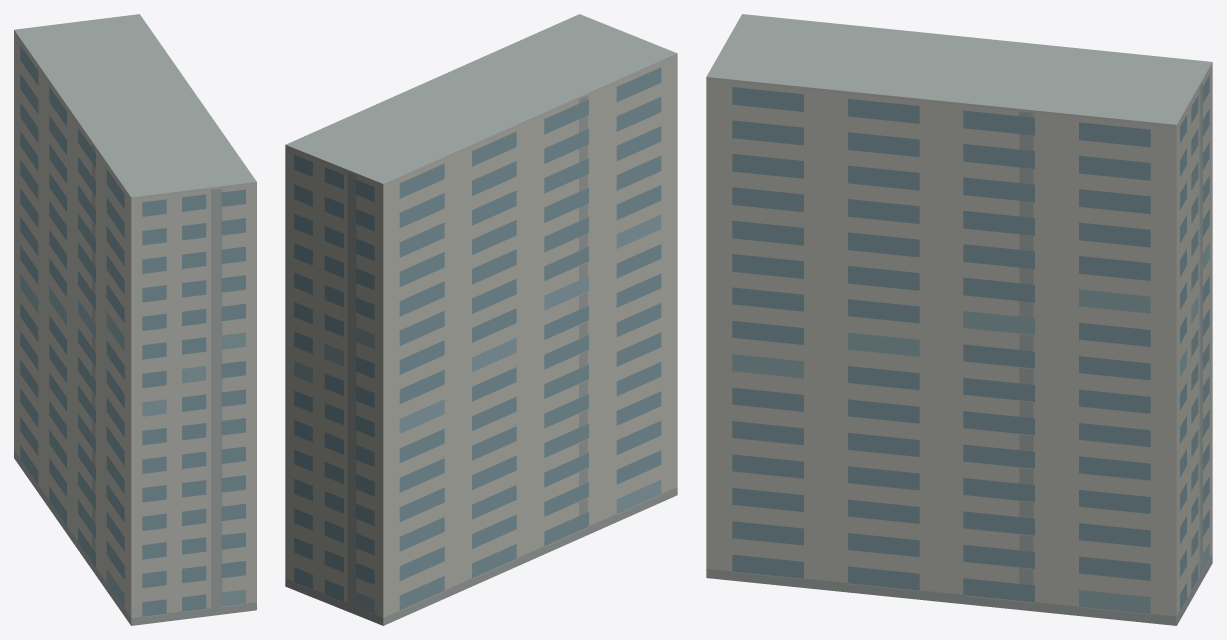
File: residential-4a31fa16-07fb-4f9e-8bf2-9cd24f53a00b.glb
3 renders of one model, left to right at view 1: azimuth 30°, elevation 25°; view 2: azimuth 150°, elevation 25°; view 3: azimuth 270°, elevation 25°, orthographic. The views are drawn at different scales.
Visible parts, largest first — view 1: residential-4a31fa16-07fb-4f9e-8bf2-9cd24f53a00b.tmp; view 2: residential-4a31fa16-07fb-4f9e-8bf2-9cd24f53a00b.tmp; view 3: residential-4a31fa16-07fb-4f9e-8bf2-9cd24f53a00b.tmp.
Boxes of the visible parts, bbox=[...] form: residential-4a31fa16-07fb-4f9e-8bf2-9cd24f53a00b.tmp: bbox=[14, 14, 256, 625]; residential-4a31fa16-07fb-4f9e-8bf2-9cd24f53a00b.tmp: bbox=[285, 14, 677, 625]; residential-4a31fa16-07fb-4f9e-8bf2-9cd24f53a00b.tmp: bbox=[706, 14, 1212, 625].
Size of the model in its own units: 21.73 by 45.75 by 41.92.
